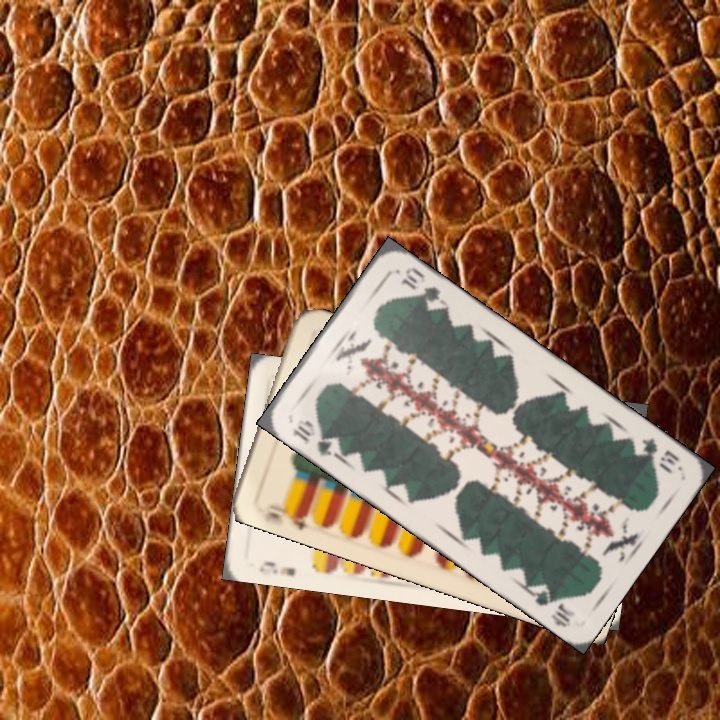E10: (253, 500, 311, 533)
E9: (255, 557, 298, 579)
G10: (288, 416, 338, 459), (635, 433, 683, 476)
